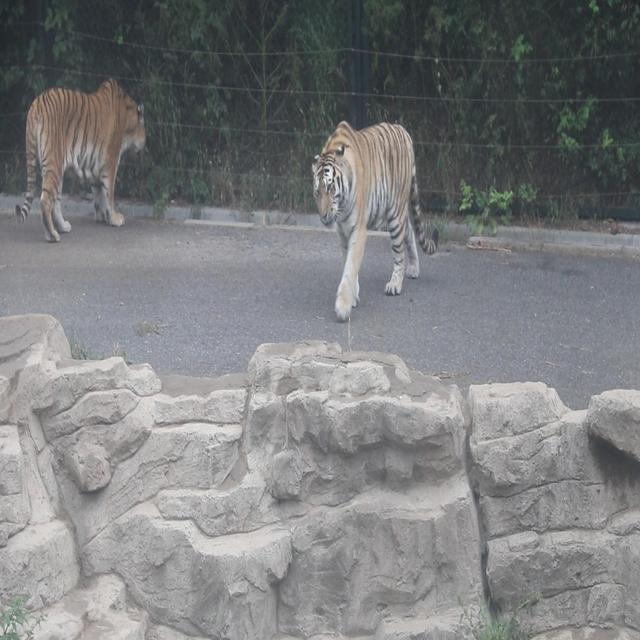tiger: (310, 118, 438, 322), (14, 77, 146, 242)
